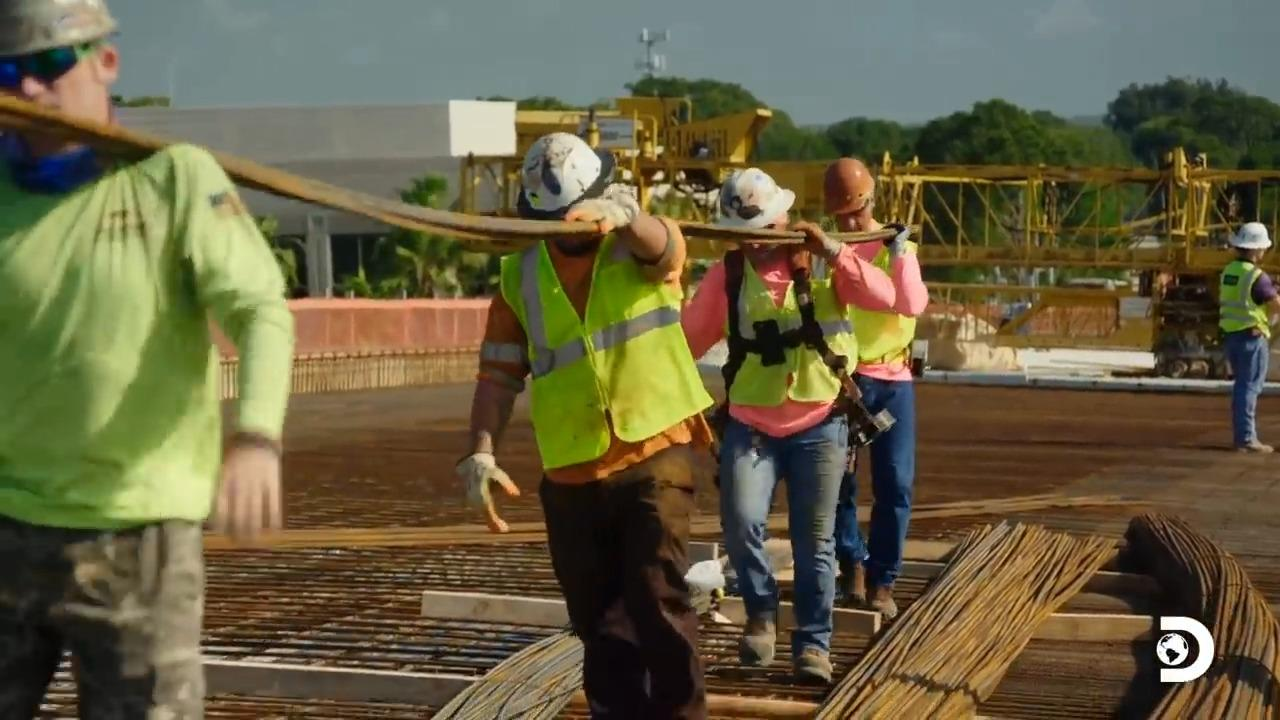Gloves: (202, 447, 302, 560), (563, 188, 632, 238), (464, 456, 511, 528), (792, 217, 831, 264)
Helmet: (516, 131, 614, 219), (0, 0, 117, 56), (821, 157, 875, 216), (1227, 221, 1272, 249)
Person: (0, 0, 296, 718), (454, 131, 718, 719), (678, 166, 899, 684), (790, 156, 929, 620), (1216, 221, 1279, 453)
Safety Boot: (865, 570, 898, 626), (743, 618, 782, 664), (789, 635, 829, 676), (830, 553, 862, 602)
Safety Vest: (529, 264, 672, 450), (720, 274, 822, 398), (851, 264, 900, 357), (1221, 278, 1266, 338)
no-vest: (0, 192, 216, 522)
